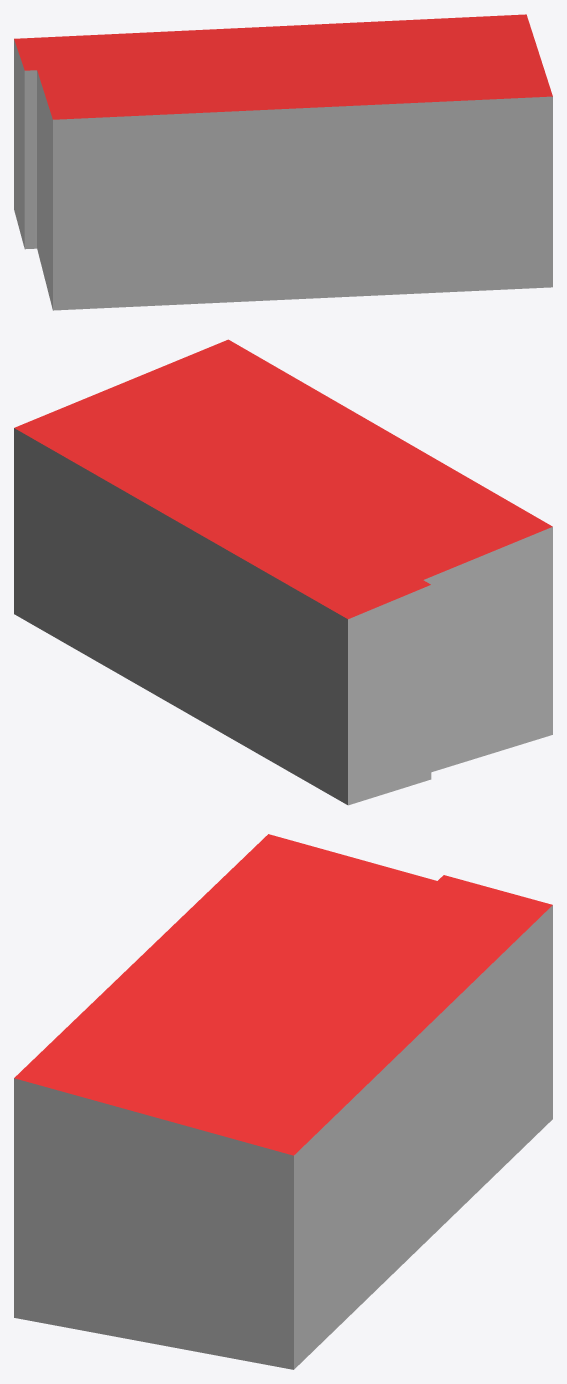
The model's file is DEBY_LOD2_4906973.dae.
3 renders of one model, top to bottom at view 1: azimuth 30°, elevation 25°; view 2: azimuth 150°, elevation 25°; view 3: azimuth 270°, elevation 25°, orthographic. The views are drawn at different scales.
Size of the model in its own units: 11.83 by 9.09 by 4.46.
